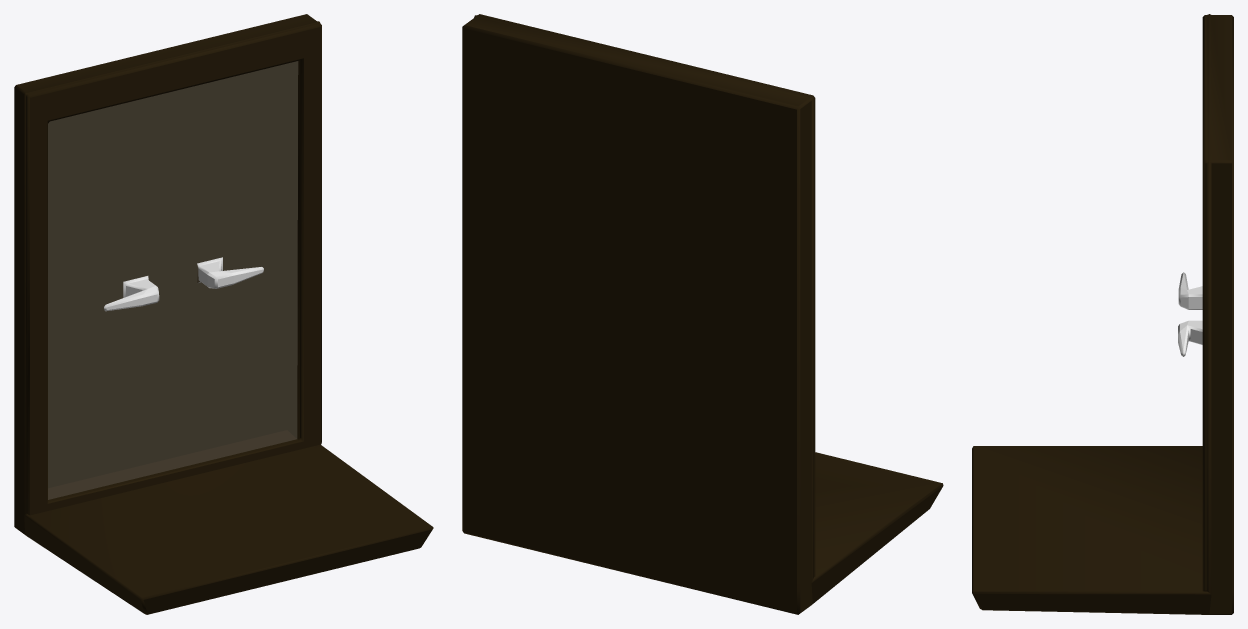
Rendered from F_ClosedWindow.fbx.
3 renders of one model, left to right at view 1: azimuth 30°, elevation 25°; view 2: azimuth 150°, elevation 25°; view 3: azimuth 270°, elevation 25°, orthographic. The views are drawn at different scales.
Visible parts, largest first — view 1: F_ClosedWindow; view 2: F_ClosedWindow; view 3: F_ClosedWindow.
Part boxes in pixels (<box>): F_ClosedWindow: <box>14,14,433,614</box>; F_ClosedWindow: <box>462,14,943,614</box>; F_ClosedWindow: <box>972,14,1233,614</box>.
Size of the model in its own units: 314 by 451 by 236.
